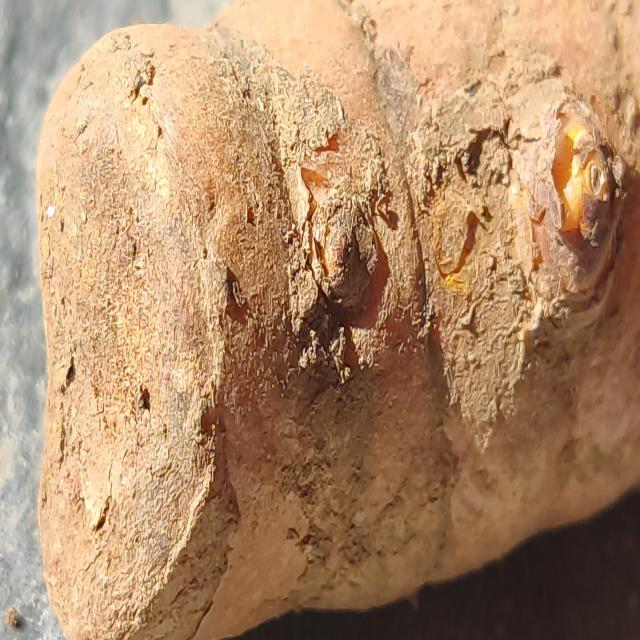ginger: (50, 26, 640, 587)
